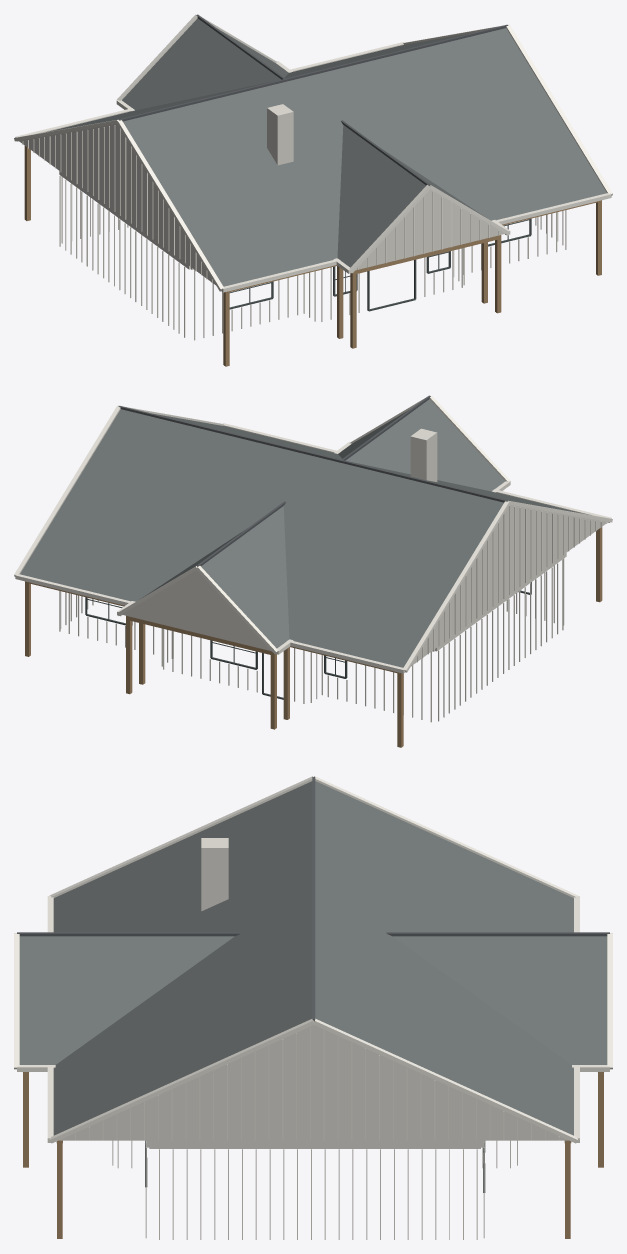
The model's file is country-exterior-r01.glb.
3 views of the same model, one above another, from view 1: azimuth 30°, elevation 25°; view 2: azimuth 150°, elevation 25°; view 3: azimuth 270°, elevation 25° (orthographic). The views are drawn at different scales.
Parts seen in each view (by area): view 1: EX_roof_Exterior_metal, EX_roof_Exterior_wall, EX_roof_Exterior_trim, EX_facade_Exterior_trim, EX_trim_Exterior_timber, EX_roof_Exterior_roof, EX_facade_Exterior_frame; view 2: EX_roof_Exterior_metal, EX_roof_Exterior_wall, EX_roof_Exterior_trim, EX_facade_Exterior_trim, EX_trim_Exterior_timber, EX_roof_Exterior_roof, EX_facade_Exterior_frame; view 3: EX_roof_Exterior_metal, EX_roof_Exterior_wall, EX_roof_Exterior_trim, EX_facade_Exterior_trim, EX_roof_Exterior_roof, EX_trim_Exterior_timber.
Boxes of the visible parts, x1,y1,x2,y2 form: EX_roof_Exterior_metal: (46,18,606,286); EX_roof_Exterior_wall: (18,104,505,284); EX_roof_Exterior_trim: (14,14,612,292); EX_facade_Exterior_trim: (59,175,566,340); EX_trim_Exterior_timber: (24,146,601,366); EX_roof_Exterior_roof: (119,14,508,185); EX_facade_Exterior_frame: (229,218,531,311); EX_roof_Exterior_metal: (20,399,580,667); EX_roof_Exterior_wall: (122,428,607,666); EX_roof_Exterior_trim: (14,395,612,673); EX_facade_Exterior_trim: (59,558,564,722); EX_trim_Exterior_timber: (25,527,602,747); EX_roof_Exterior_roof: (119,395,508,566); EX_facade_Exterior_frame: (85,582,531,699); EX_roof_Exterior_metal: (19,781,607,1135); EX_roof_Exterior_wall: (59,838,568,1148); EX_roof_Exterior_trim: (14,776,612,1143); EX_facade_Exterior_trim: (112,1140,517,1239); EX_roof_Exterior_roof: (17,777,609,1020); EX_trim_Exterior_timber: (23,1072,603,1238).
Size of the model in its own units: 15.92 by 7.12 by 16.47.
